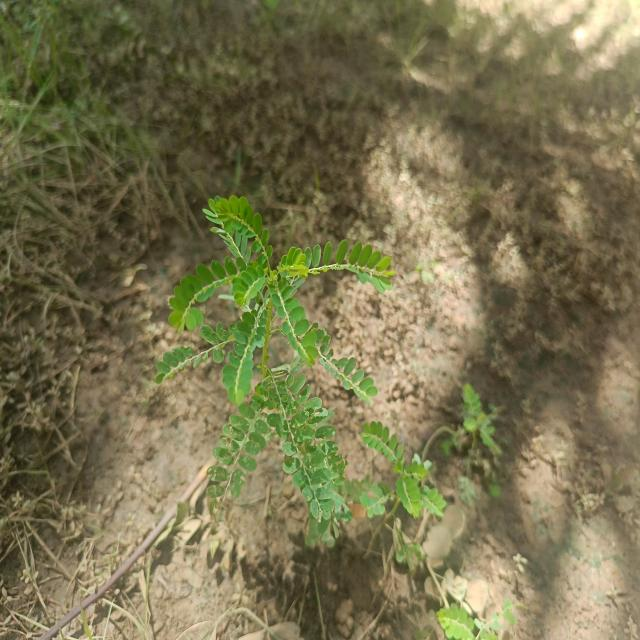weed: (145, 174, 409, 541), (358, 422, 450, 531)
